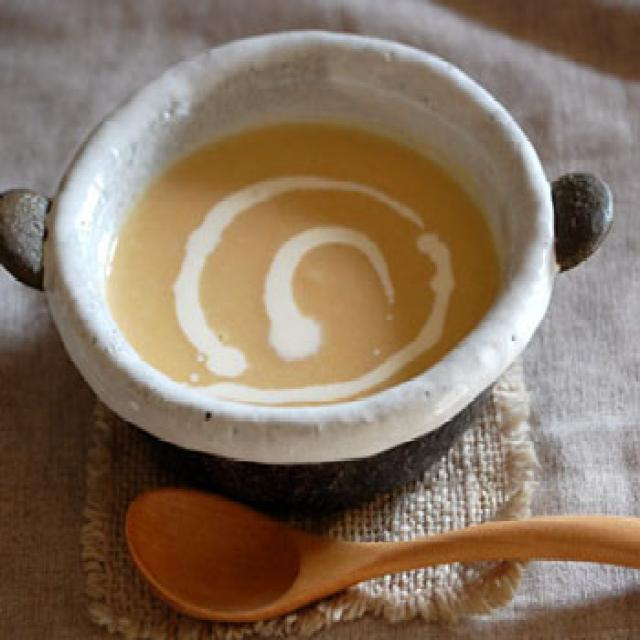汤锅炖物: (31, 20, 565, 471)
